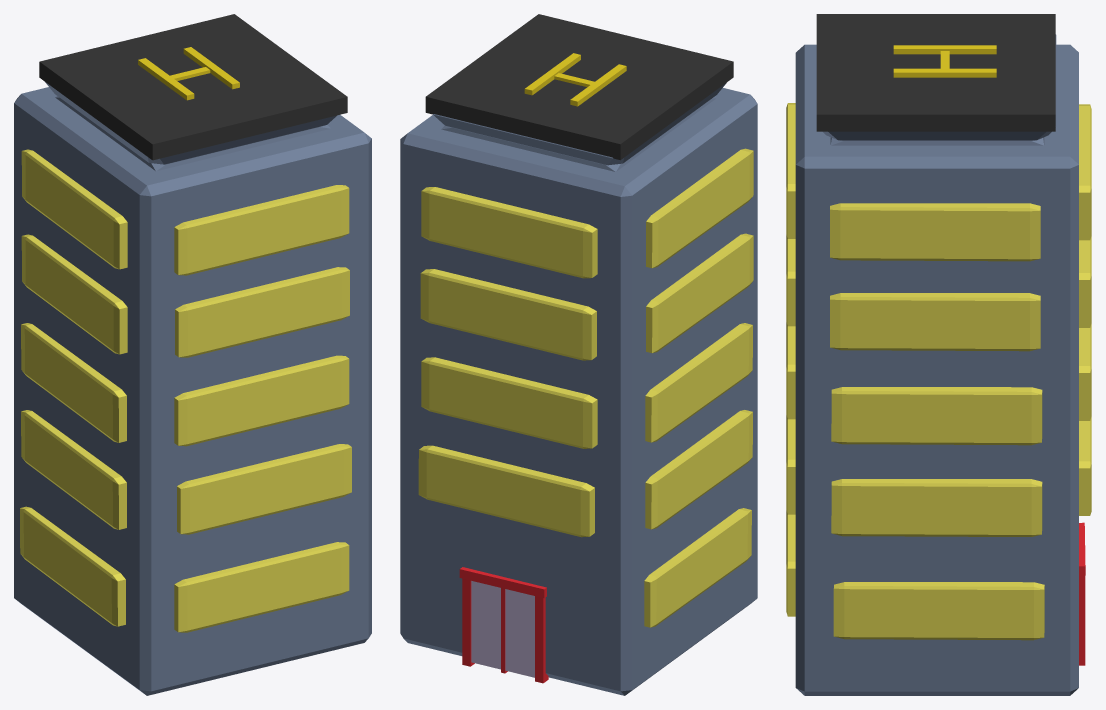
The model's file is building4.fbx.
3 views of the same model, side by side, from view 1: azimuth 30°, elevation 25°; view 2: azimuth 150°, elevation 25°; view 3: azimuth 270°, elevation 25° (orthographic). The views are drawn at different scales.
Visible parts, largest first — view 1: Cube.084, Cube, Cube.003, Cube.011, Cube.009, Cube.010, Cube.004, Cube.017, Cube.016, Cube.019, Cube.018, Cube.020 (+2 smaller); view 2: Cube.084, Cube, Cube.007, Cube.006, Cube.002, Cube.008, Cube.020, Cube.019, Cube.016, Cube.017, Cube.018, Cube.088 (+5 smaller); view 3: Cube.084, Cube, Cube.015, Cube.013, Cube.014, Cube.005, Cube.012, Cube.002, Cube.003, Cube.008, Cube.007, Cube.006 (+7 smaller).
Part boxes in pixels (bbox=[...]): Cube.084: bbox=[14, 82, 371, 695]; Cube: bbox=[39, 14, 347, 160]; Cube.003: bbox=[174, 185, 349, 275]; Cube.011: bbox=[174, 542, 349, 632]; Cube.009: bbox=[174, 355, 349, 446]; Cube.010: bbox=[177, 444, 351, 534]; Cube.004: bbox=[175, 267, 349, 357]; Cube.017: bbox=[21, 234, 127, 354]; Cube.016: bbox=[21, 149, 127, 269]; Cube.019: bbox=[21, 410, 126, 529]; Cube.018: bbox=[21, 323, 126, 442]; Cube.020: bbox=[20, 506, 125, 626]; Cube.084: bbox=[400, 82, 757, 695]; Cube: bbox=[425, 14, 733, 160]; Cube.007: bbox=[421, 357, 597, 448]; Cube.006: bbox=[420, 269, 596, 360]; Cube.002: bbox=[421, 187, 597, 278]; Cube.008: bbox=[418, 445, 594, 537]; Cube.020: bbox=[644, 508, 751, 627]; Cube.019: bbox=[645, 410, 752, 529]; Cube.016: bbox=[646, 148, 753, 268]; Cube.017: bbox=[646, 233, 753, 353]; Cube.018: bbox=[645, 323, 752, 442]; Cube.088: bbox=[471, 581, 534, 677]; Cube.084: bbox=[795, 34, 1078, 695]; Cube: bbox=[816, 14, 1055, 131]; Cube.015: bbox=[833, 582, 1044, 640]; Cube.013: bbox=[831, 387, 1042, 445]; Cube.014: bbox=[831, 479, 1042, 536]; Cube.005: bbox=[830, 203, 1040, 261]; Cube.012: bbox=[830, 293, 1040, 351]; Cube.002: bbox=[1079, 104, 1091, 240]; Cube.003: bbox=[786, 103, 795, 238]; Cube.008: bbox=[1079, 417, 1091, 515]; Cube.007: bbox=[1079, 324, 1091, 420]; Cube.006: bbox=[1079, 236, 1091, 327].
Bounding box in the file's own units: 488 × 1019 × 484.
